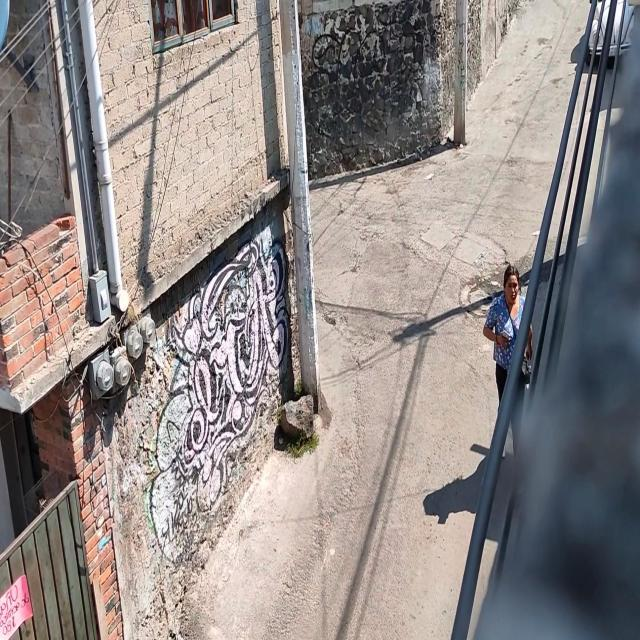adult: (482, 251, 535, 466)
